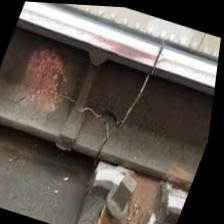person: (39, 10, 223, 190)
